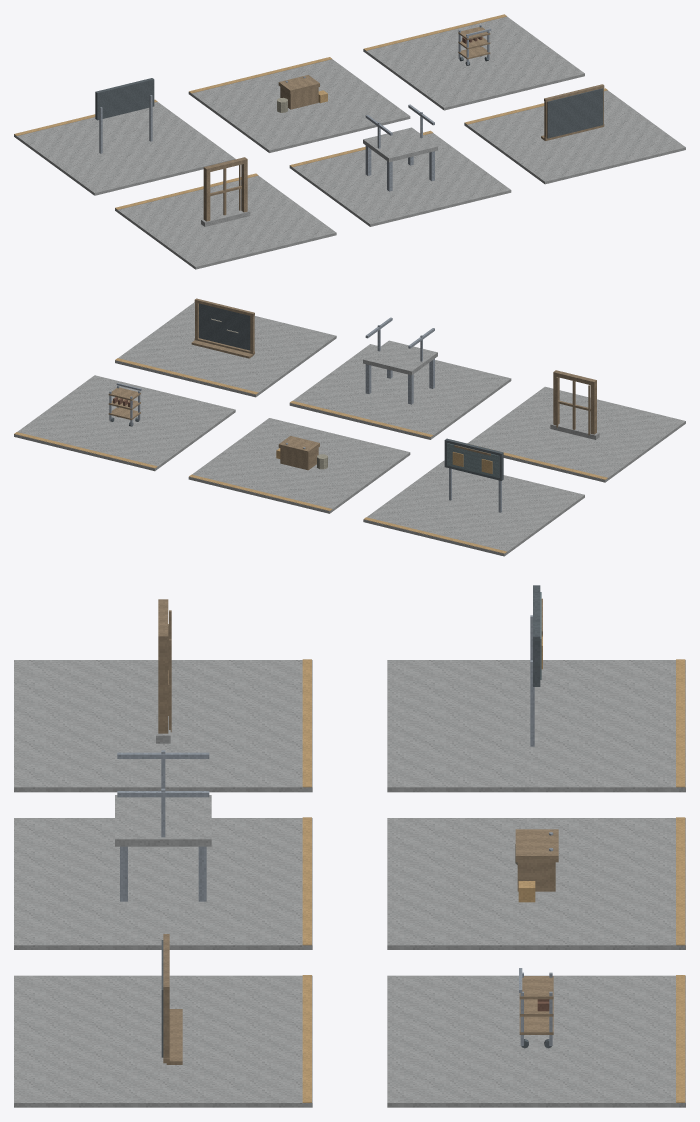
Rendered from level_blockout_kit_school_p02.glb.
3 renders of one model, top to bottom at view 1: azimuth 30°, elevation 25°; view 2: azimuth 150°, elevation 25°; view 3: azimuth 270°, elevation 25°, orthographic. The views are drawn at different scales.
Parts seen in each view (by area): view 1: level_blockout_kit_school_p02; view 2: level_blockout_kit_school_p02; view 3: level_blockout_kit_school_p02.
Part boxes in pixels (<box>): level_blockout_kit_school_p02: <box>14,14,685,269</box>; level_blockout_kit_school_p02: <box>14,298,685,556</box>; level_blockout_kit_school_p02: <box>14,585,685,1107</box>.
Bounding box in the file's own units: 19.65 × 2.44 × 12.6.
Materials: 9 (9 with a texture image).
